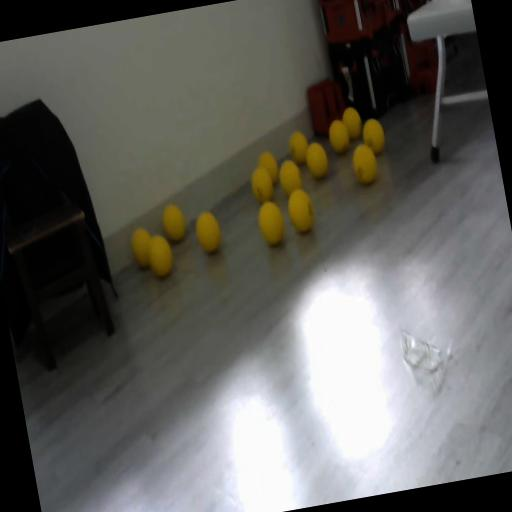FUEL: (254, 197, 288, 247), (143, 231, 176, 280), (283, 186, 316, 234), (192, 208, 224, 256), (348, 141, 380, 186), (160, 201, 188, 243), (302, 139, 330, 180), (276, 157, 304, 197), (359, 116, 387, 156), (326, 117, 352, 155), (256, 149, 281, 187), (286, 128, 311, 165), (339, 104, 364, 140)
